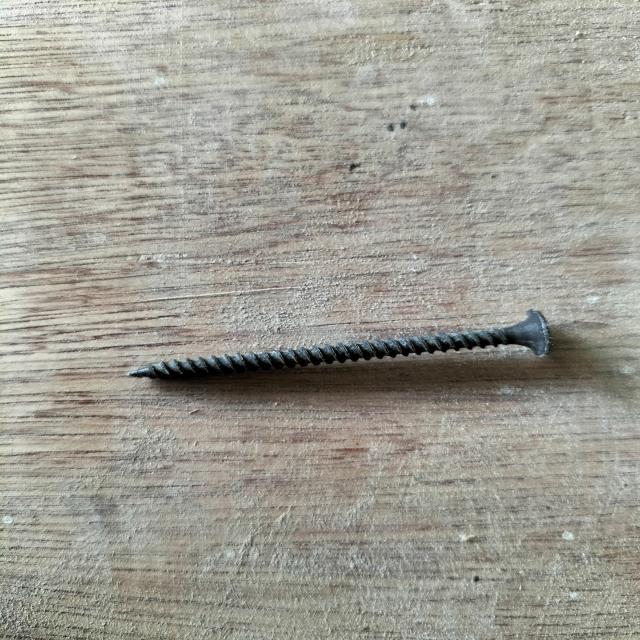screw: (127, 310, 551, 382)
